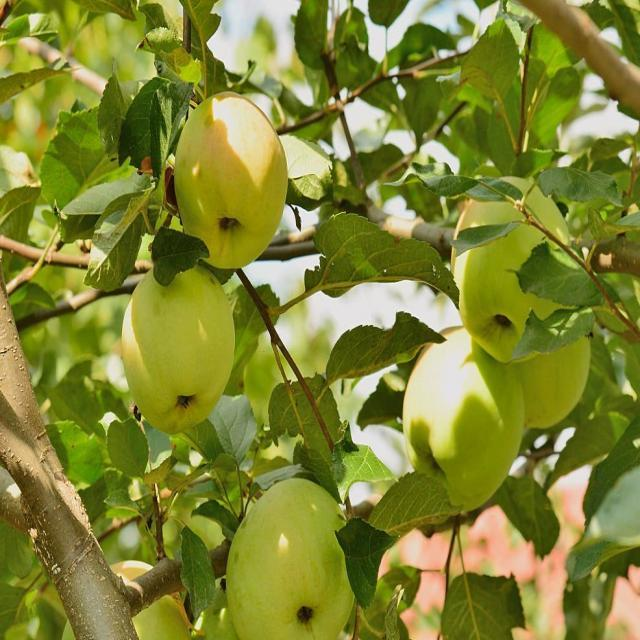Green Apple: (122, 240, 241, 422), (224, 482, 353, 640), (396, 325, 512, 500), (452, 179, 563, 350), (180, 102, 284, 268), (496, 303, 589, 423), (60, 555, 181, 640), (189, 577, 260, 640)
